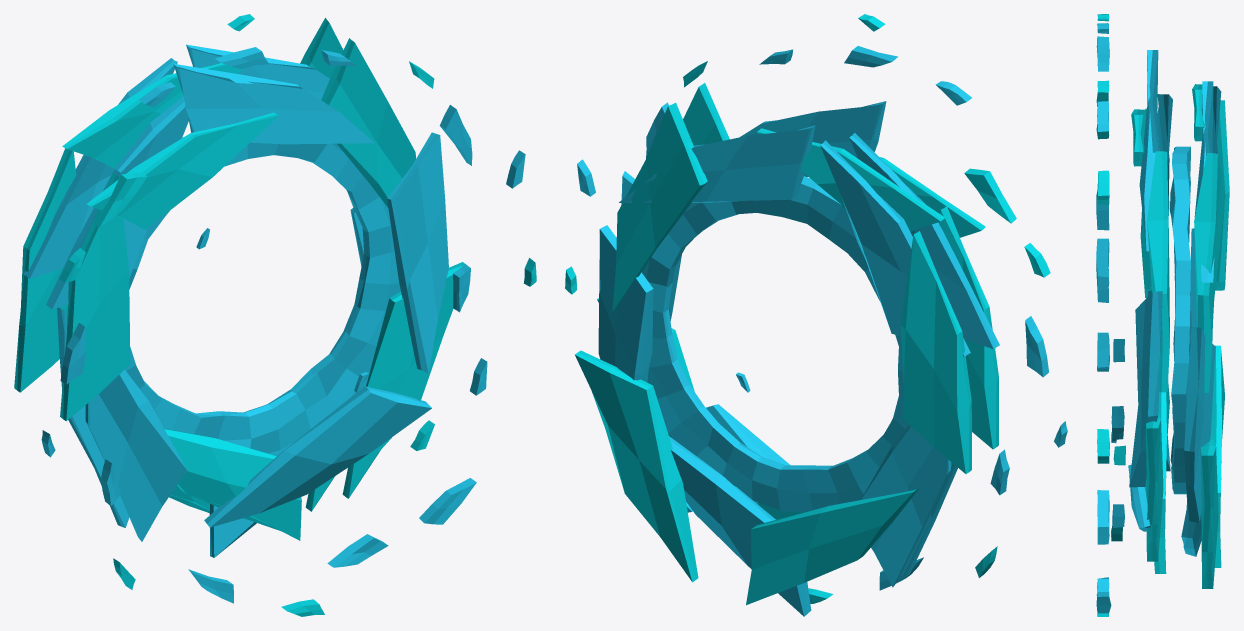
File: portal_face.fbx
The picture shows the model from 3 angles, left to right: view 1: azimuth 30°, elevation 25°; view 2: azimuth 150°, elevation 25°; view 3: azimuth 270°, elevation 25°; orthographic projection. The views are drawn at different scales.
Visible parts, largest first — view 1: portel_Plane.002, portel_Plane.005, portel_Plane.004, portel_Plane.001; view 2: portel_Plane.005, portel_Plane.004, portel_Plane.002, portel_Plane.001; view 3: portel_Plane.005, portel_Plane.002, portel_Plane.001, portel_Plane.004.
Part boxes in pixels (x1,y1,x2,y2): portel_Plane.002: (46,38,464,541); portel_Plane.005: (14,18,369,557); portel_Plane.004: (125,137,400,453); portel_Plane.001: (41,14,536,616); portel_Plane.005: (575,102,971,616); portel_Plane.004: (641,176,908,512); portel_Plane.002: (597,83,999,577); portel_Plane.001: (565,14,1067,603); portel_Plane.005: (1181,81,1229,588); portel_Plane.002: (1128,50,1172,573); portel_Plane.001: (1096,14,1125,616); portel_Plane.004: (1170,146,1192,494).
Bounding box in the file's own units: 1193 × 1404 × 300.
